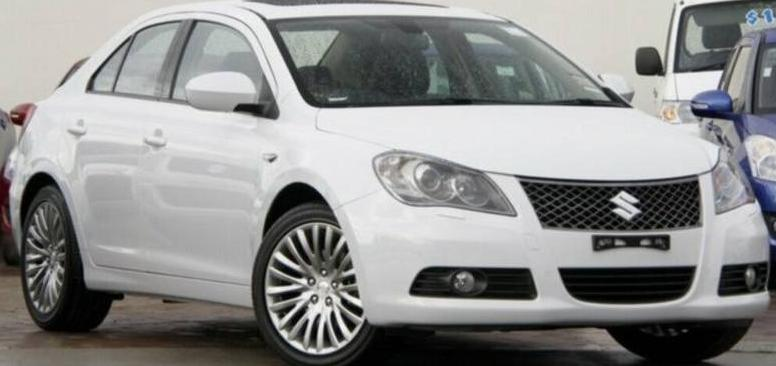front_view: (341, 118, 770, 332)
headlight: (364, 138, 525, 222)
side_glass: (70, 15, 283, 111)
